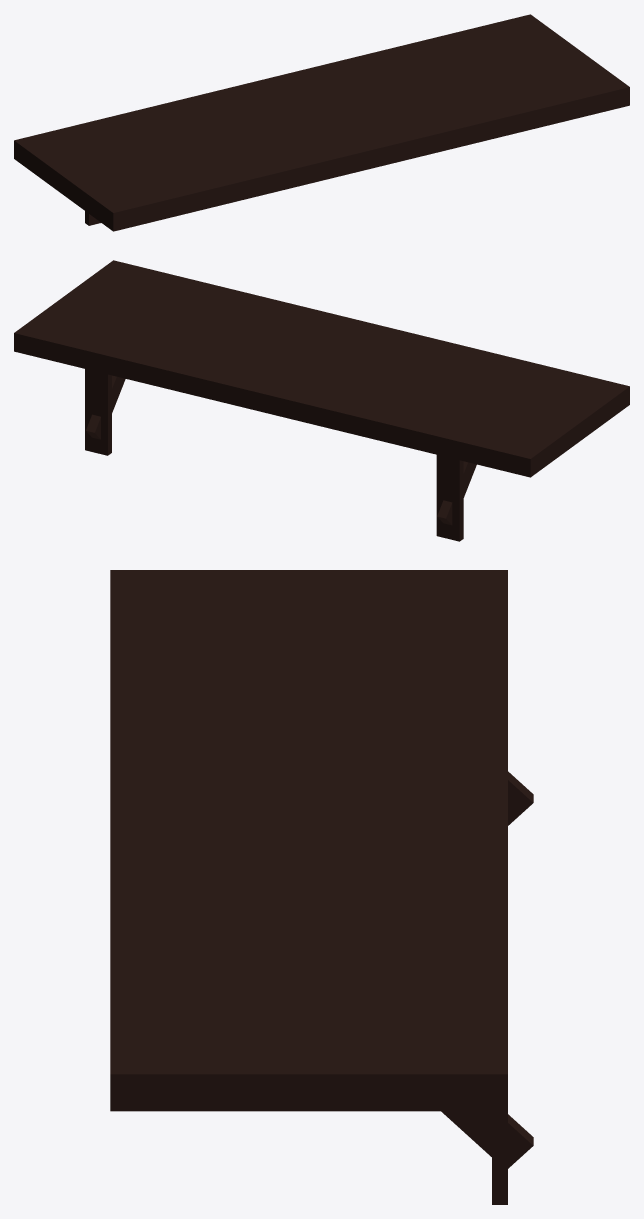
Rendered from WallShelf.fbx.
3 renders of one model, top to bottom at view 1: azimuth 30°, elevation 25°; view 2: azimuth 150°, elevation 25°; view 3: azimuth 270°, elevation 25°, orthographic. The views are drawn at different scales.
Parts seen in each view (by area): view 1: Cube; view 2: Cube, Cube.001; view 3: Cube, Cube.001.
Part boxes in pixels (x1,y1,x2,y2): Cube: (14, 14, 629, 231); Cube: (14, 260, 629, 477); Cube.001: (85, 369, 476, 541); Cube: (110, 570, 507, 1111); Cube.001: (441, 771, 533, 1204).
Bounding box in the file's own units: 600 × 111 × 213.
